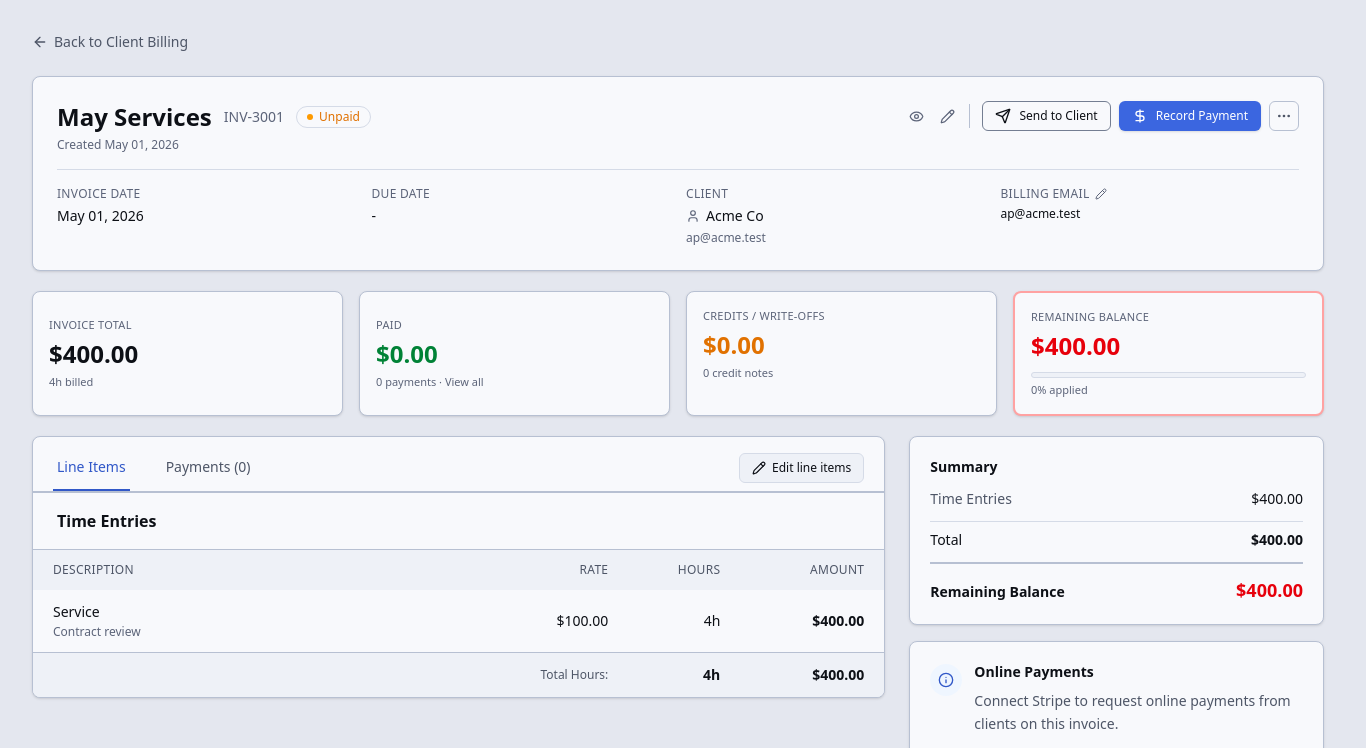
adding a credit note › refuses 10.005 inside the dialog and sends nothing
Click the button named "More actions" at point(1284, 116), box [1269,101,1299,131]
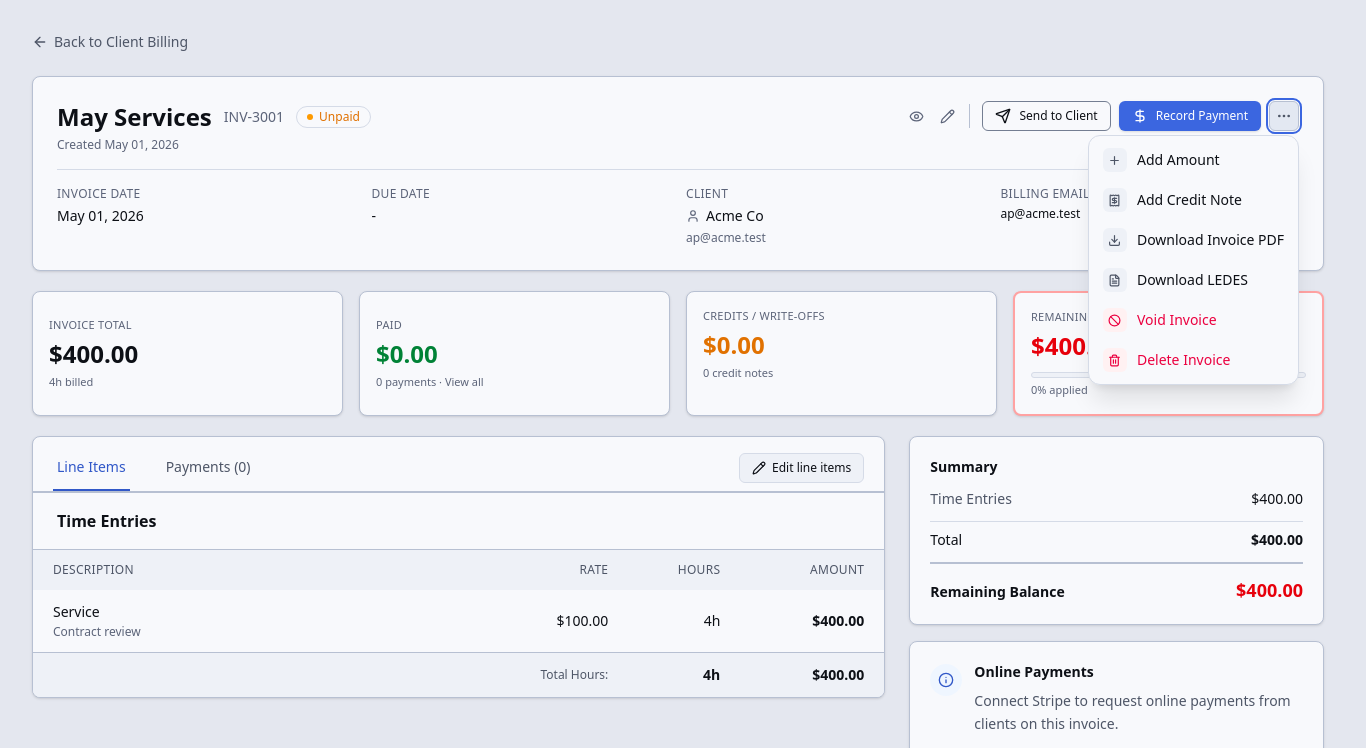
Click the button "Add Credit Note" at point(1193, 200), box [1093,180,1294,220]
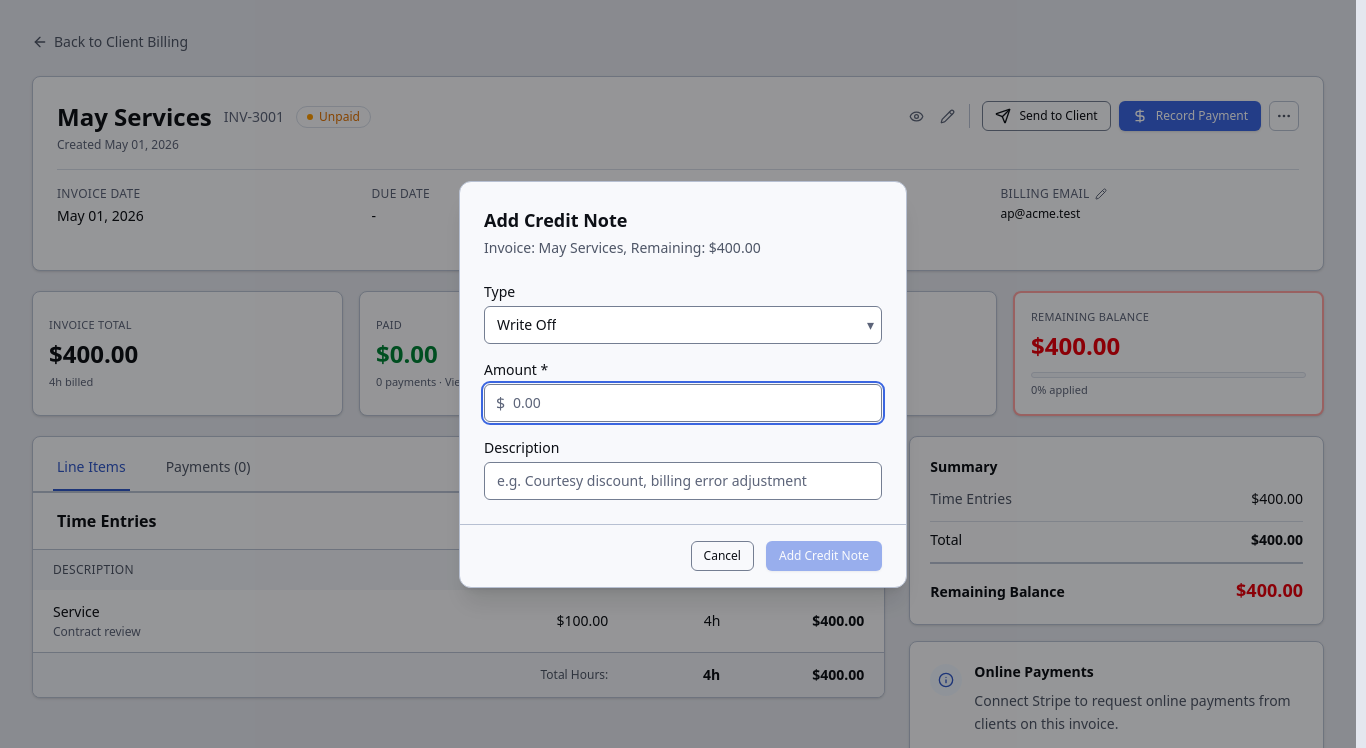
Type "10.005" into the number field with placeholder "0.00" at point(683, 402), box [484,384,882,422]
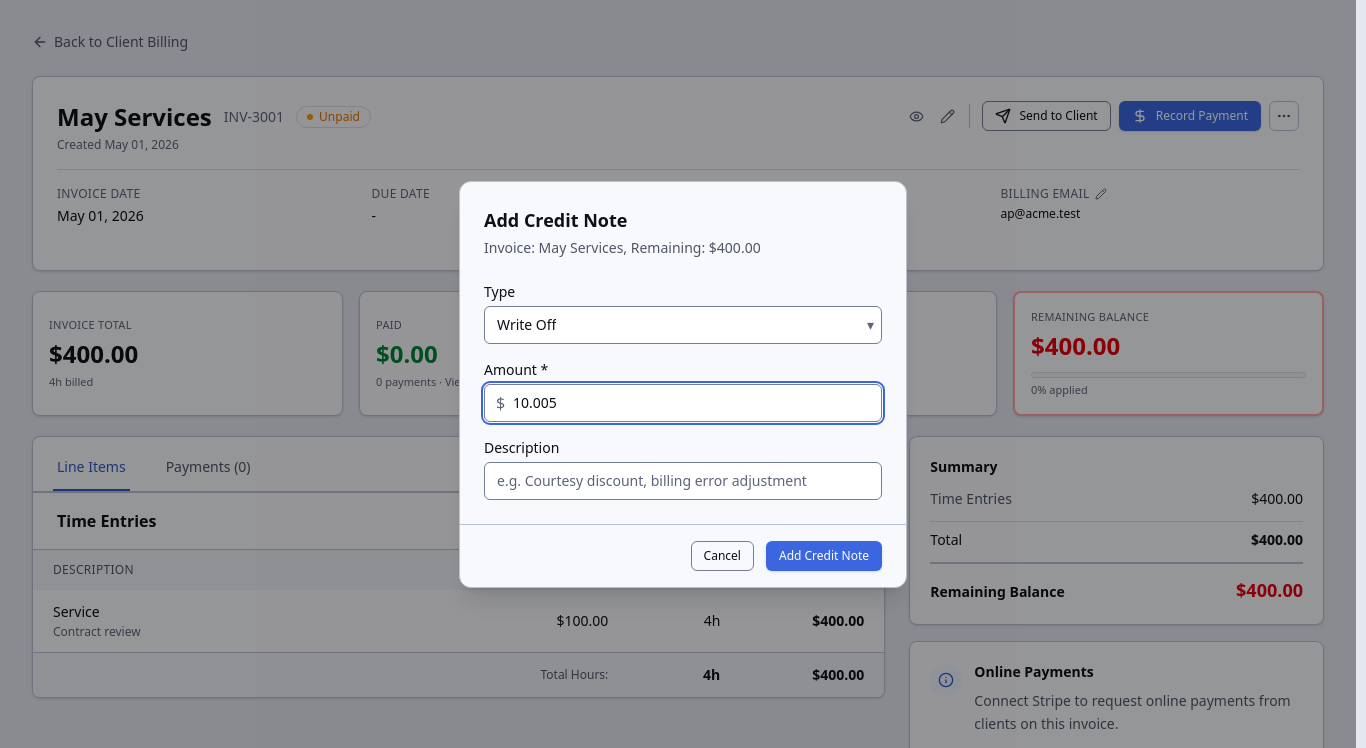
Click the button "Add Credit Note" at point(824, 556), box [766,540,882,570]
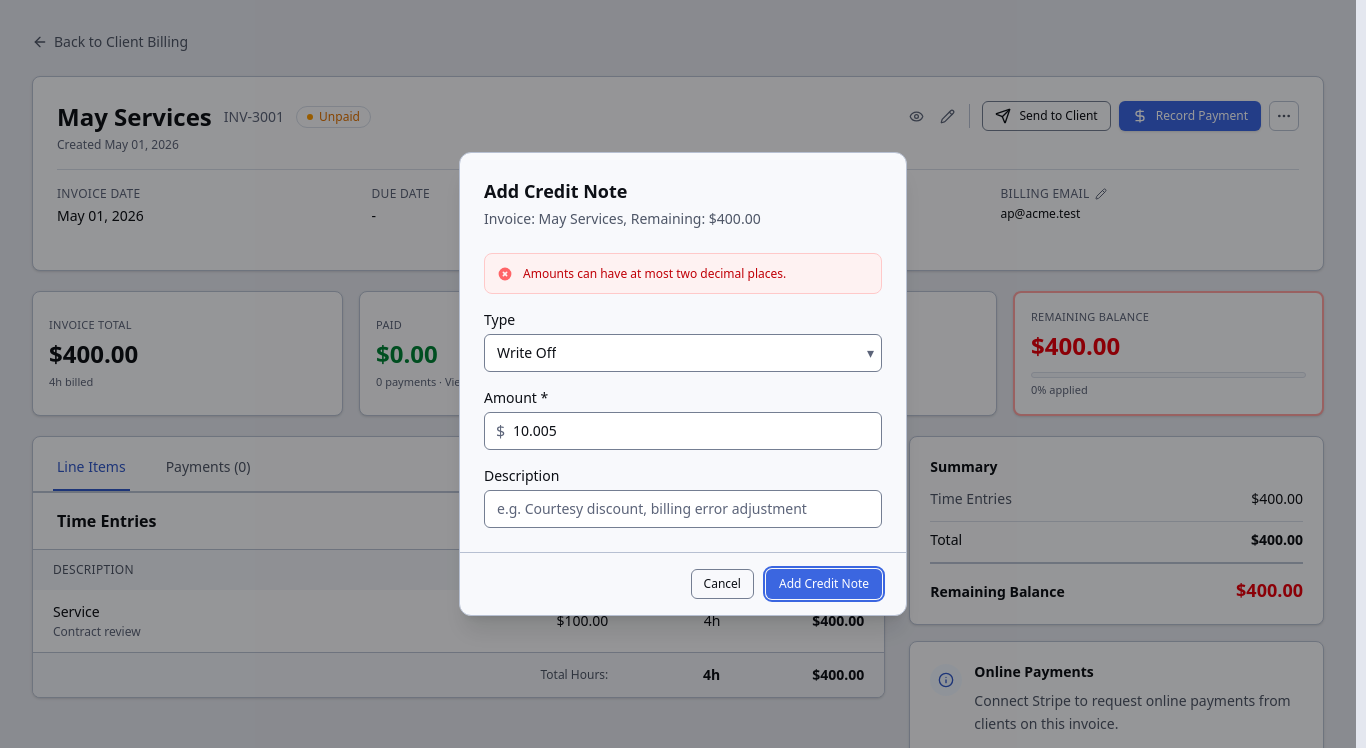
Expected: the text "Amounts can have at most two decimal places." is shown, [523,265,786,282]
